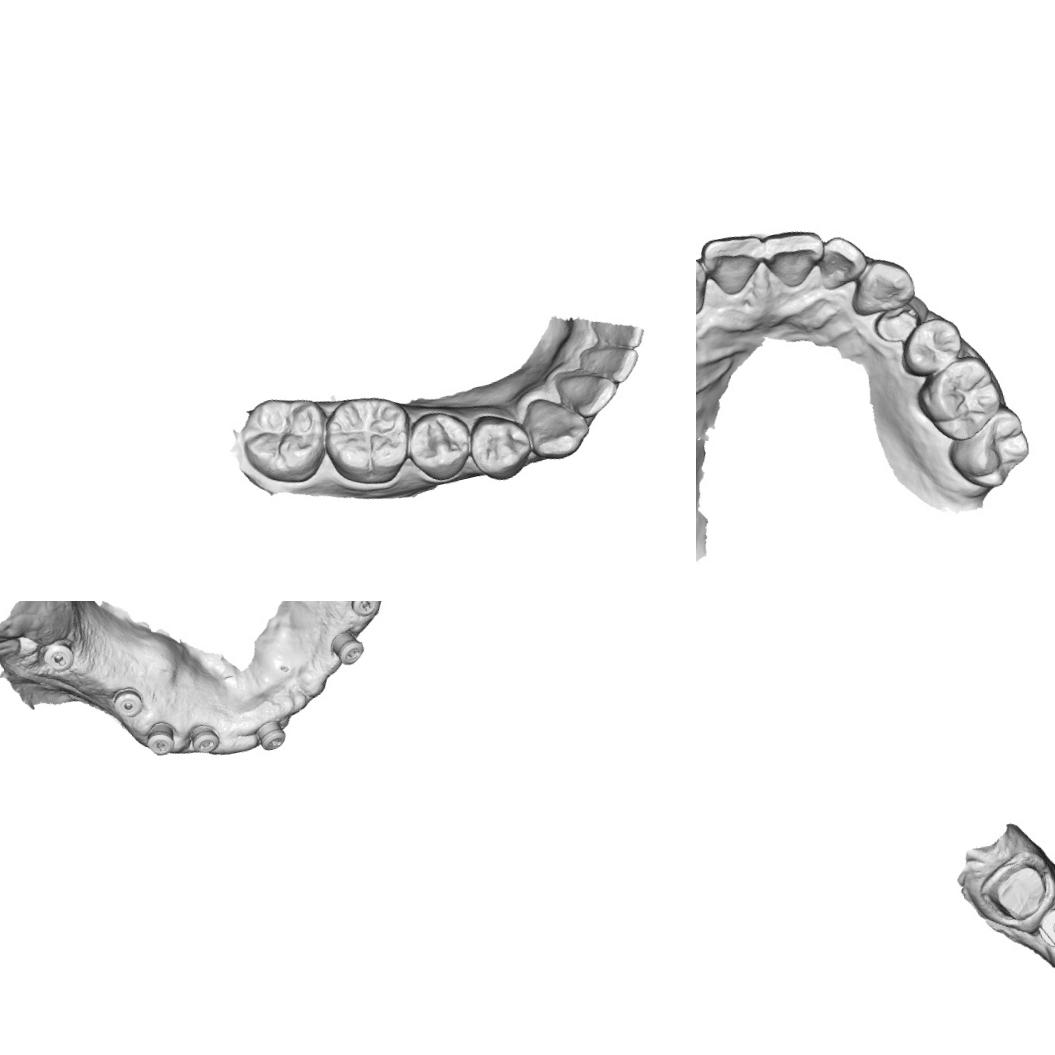canine: (517, 385, 595, 467), (841, 252, 920, 322)
crown: (972, 843, 1055, 933)
implant: (107, 683, 147, 722), (1033, 899, 1055, 954)
implant_minus: (139, 718, 184, 762), (326, 626, 369, 670), (251, 714, 293, 756), (40, 636, 80, 680), (183, 720, 224, 759), (343, 601, 387, 622)
incisor: (696, 227, 778, 300), (759, 222, 834, 294), (574, 336, 644, 392), (558, 364, 623, 424), (810, 230, 870, 292), (696, 253, 714, 321)
molar: (316, 386, 424, 494), (232, 386, 336, 494), (940, 402, 1041, 499), (916, 353, 1009, 446)
premolar: (400, 406, 476, 487), (891, 311, 970, 384), (464, 408, 536, 488)
